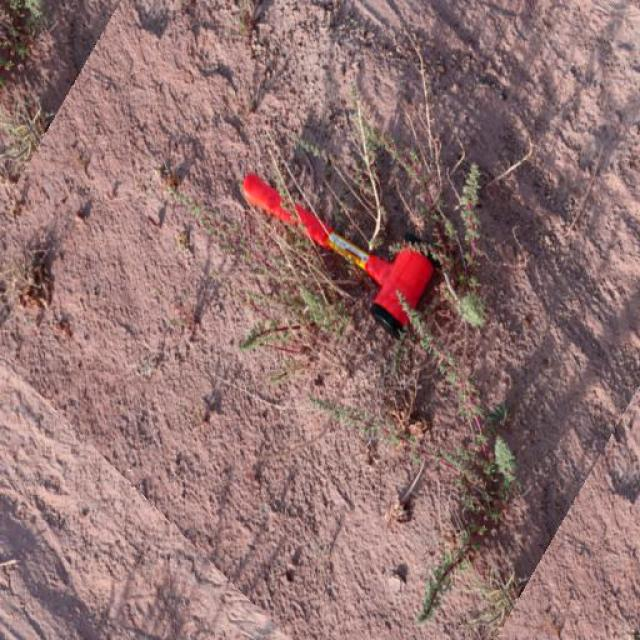mallet: (239, 170, 435, 332)
